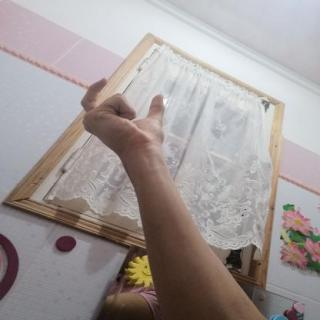NOON: (70, 69, 177, 166)
